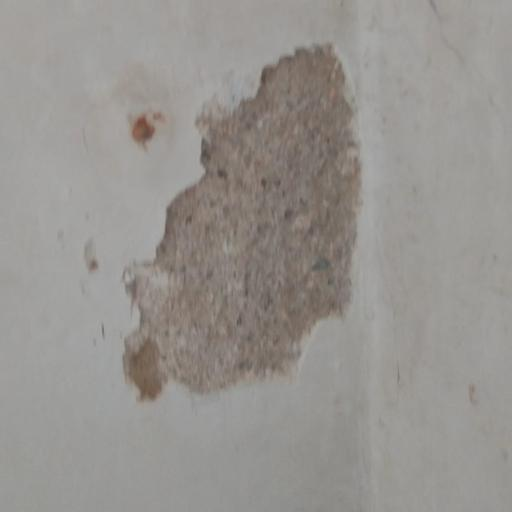peeling: (98, 27, 364, 412)
